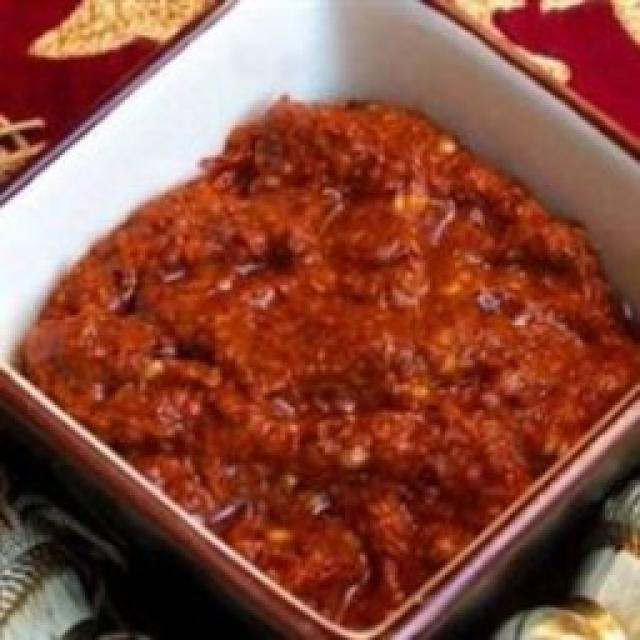Harissa: (0, 92, 640, 640)
